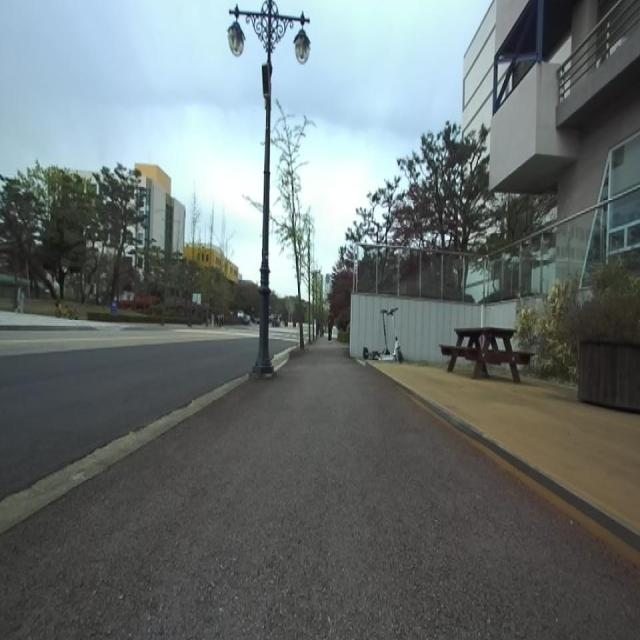sidewalk: (0, 340, 640, 639), (0, 374, 249, 533)
